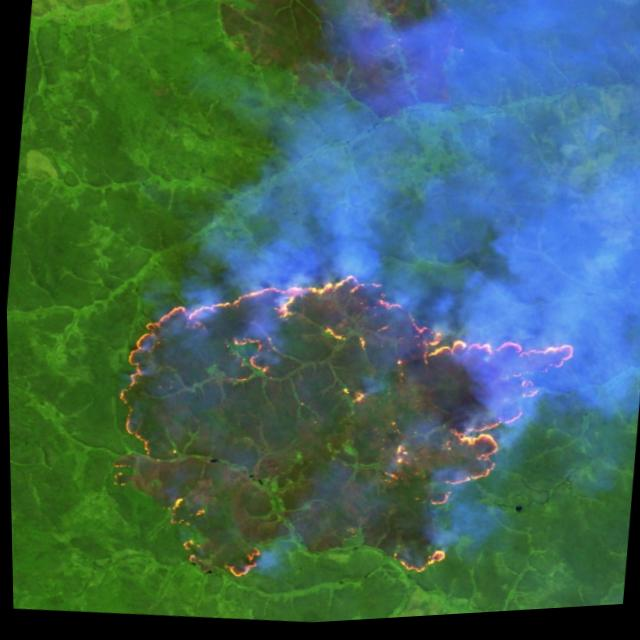fire: (84, 230, 596, 625)
